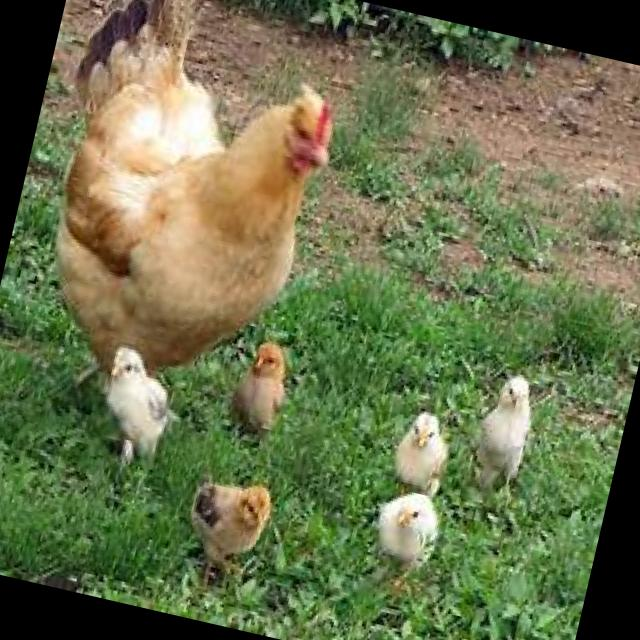animal: (2, 0, 362, 436), (86, 340, 186, 474), (174, 467, 276, 592), (464, 365, 540, 497), (362, 483, 446, 592), (219, 332, 295, 446), (384, 404, 456, 498)
